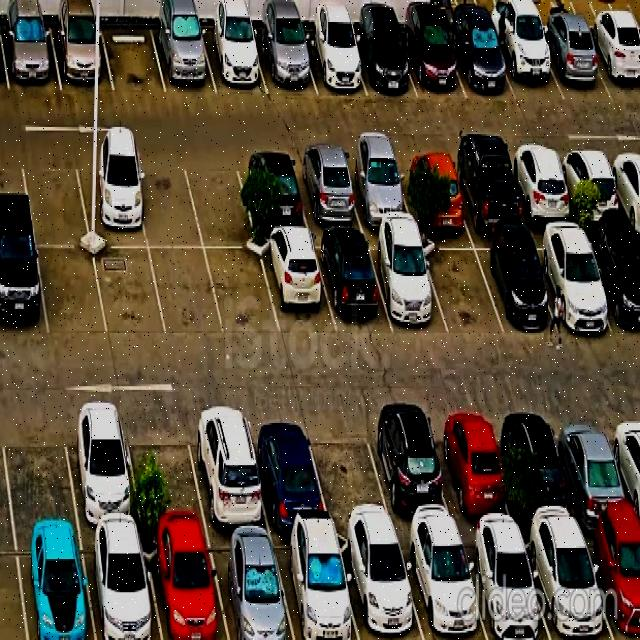empty: (305, 411, 395, 531), (123, 408, 208, 532), (0, 407, 78, 532), (419, 237, 504, 334), (183, 153, 257, 249), (132, 155, 203, 248), (94, 248, 166, 338), (20, 153, 90, 245), (150, 249, 224, 336), (37, 247, 108, 337), (205, 251, 280, 336), (101, 25, 166, 93)
occupied: (363, 409, 458, 532), (428, 408, 516, 531), (551, 407, 638, 528), (186, 406, 270, 531), (246, 409, 331, 530), (521, 529, 613, 640), (499, 407, 581, 530), (61, 406, 142, 530), (460, 532, 551, 640), (398, 533, 488, 640), (206, 534, 295, 640), (337, 533, 424, 640), (272, 533, 359, 640), (142, 534, 228, 640), (81, 532, 162, 640), (529, 230, 615, 331), (15, 533, 95, 640), (472, 236, 557, 333), (366, 236, 448, 334), (259, 235, 336, 337), (313, 235, 393, 332), (74, 154, 148, 247), (581, 525, 640, 640), (583, 229, 640, 337), (448, 152, 526, 230), (236, 153, 310, 232), (395, 153, 470, 228), (291, 153, 364, 229), (536, 29, 613, 101), (491, 29, 565, 103), (341, 152, 414, 227), (506, 149, 577, 224), (556, 148, 626, 223), (447, 26, 516, 100), (399, 26, 467, 99), (349, 29, 417, 97), (0, 242, 48, 337), (200, 27, 268, 94), (151, 26, 217, 94), (299, 31, 367, 96), (50, 26, 114, 91), (0, 26, 61, 91), (254, 31, 316, 94), (585, 30, 640, 101)
